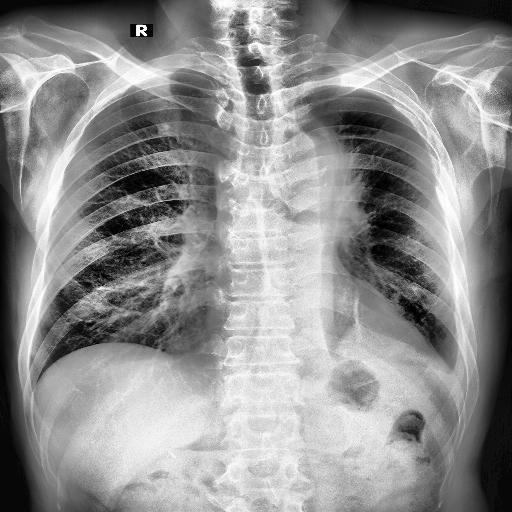0- Aortic enlargement: (264, 132, 338, 230), (264, 130, 336, 202)
10- Pleural effusion: (446, 349, 466, 383), (446, 352, 466, 380)
11- Pleural thickening: (446, 349, 466, 383), (446, 352, 466, 380)
3- Cardiomegaly: (185, 305, 448, 395), (202, 291, 449, 385), (208, 311, 454, 374)
7- Lung Opacity: (301, 100, 368, 239)
8- Nodule-Mass: (162, 122, 170, 130), (162, 122, 170, 129)
